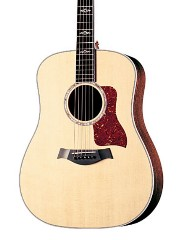guitar: (19, 1, 164, 228)
